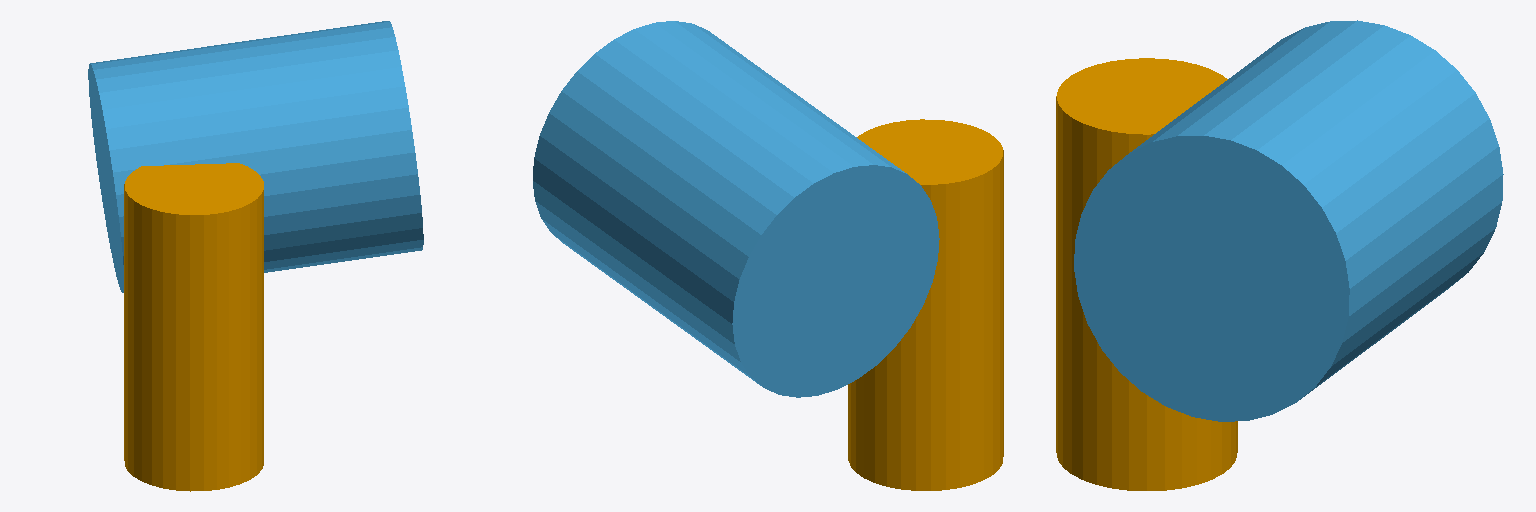
The robot description file, URDF, robot "pepe":
<?xml version="1.0"?><robot name="pepe">
	<link name="0">
		<visual>
			<geometry>
				<cylinder length="1.3303240535078822" radius="0.3058566576238244"/>
			</geometry>
		</visual>
		<collision>
			<geometry>
				<cylinder length="1.3303240535078822" radius="0.3058566576238244"/>
			</geometry>
		</collision>
		<inertial>
			<mass value="0.3909697826612453"/>
			<inertia ixx="0.03" iyy="0.03" izz="0.03" ixy="0" ixz="0" iyx="0"/>
		</inertial>
	</link>
	<link name="11">
		<visual>
			<geometry>
				<cylinder length="1.3226540799037858" radius="0.507474688480845"/>
			</geometry>
		</visual>
		<collision>
			<geometry>
				<cylinder length="1.3226540799037858" radius="0.507474688480845"/>
			</geometry>
		</collision>
		<inertial>
			<mass value="1.0701013695757267"/>
			<inertia ixx="0.03" iyy="0.03" izz="0.03" ixy="0" ixz="0" iyx="0"/>
		</inertial>
	</link>
	<joint name="11_to_0" type="revolute">
		<parent link="0"/>
		<child link="11"/>
		<axis xyz="1 0 0"/>
		<limit effort="1" upper="-3.1415" lower="3.1415" velocity="1"/>
		<origin rpy="11.15639248529773 0.8811088340467688 4.430921013977703" xyz="0.5870239214246729 0.4788840155358547 0.47372912231897324"/>
	</joint>
</robot>

--- Render facts (derived) ---
The picture shows the robot from 3 angles, left to right: view 1: azimuth 30°, elevation 25°; view 2: azimuth 150°, elevation 25°; view 3: azimuth 270°, elevation 25°; orthographic projection.
Robot: pepe — 2 links, 1 joints (1 revolute); root link 0; default pose: all joints at 0.
Visible links, largest first — view 1: 11, 0; view 2: 11, 0; view 3: 11, 0.
Link boxes in pixels (bbox=[...]): 11: bbox=[88, 21, 423, 292]; 0: bbox=[124, 163, 263, 491]; 11: bbox=[533, 21, 939, 397]; 0: bbox=[848, 119, 1003, 490]; 11: bbox=[1074, 20, 1503, 421]; 0: bbox=[1056, 58, 1237, 490].
Bounding box of the posed robot: 1.7 × 1.51 × 1.71 m (x, y, z).
Geometry: primitives only (box / cylinder / sphere), no mesh files.
